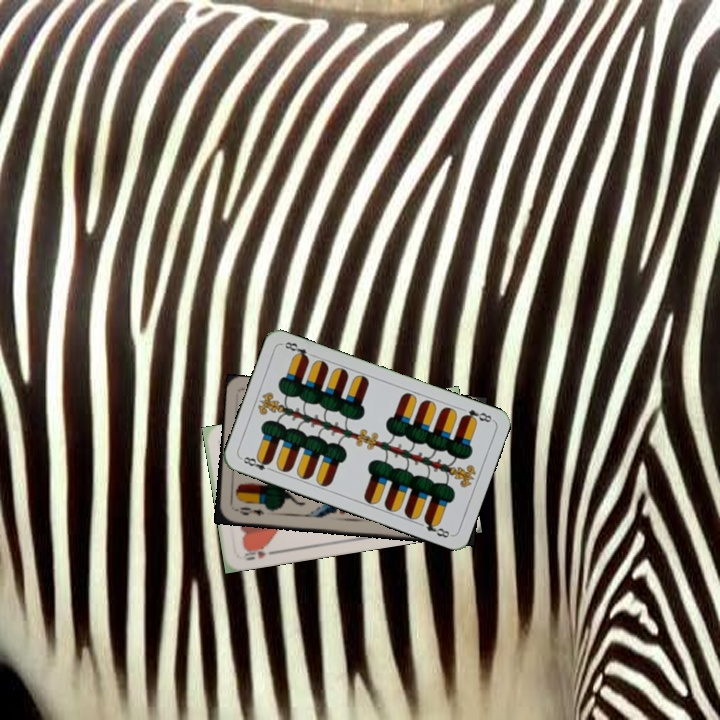E8: (237, 453, 276, 474), (458, 405, 495, 425)
EO: (230, 503, 266, 519)
HO: (240, 542, 278, 563)
